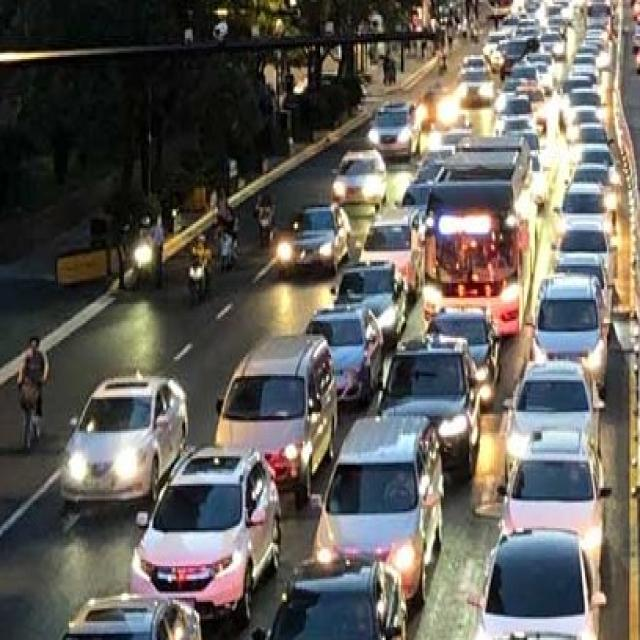bus: (421, 134, 537, 336)
car: (129, 442, 285, 622), (309, 413, 447, 608), (214, 332, 338, 509), (56, 372, 190, 505), (493, 430, 607, 584), (464, 532, 606, 640), (246, 553, 406, 640), (386, 337, 480, 481), (502, 359, 603, 471), (531, 270, 609, 398), (12, 591, 206, 640), (305, 304, 384, 406), (331, 260, 407, 346), (276, 202, 352, 276), (329, 149, 388, 212), (366, 101, 420, 162), (447, 627, 621, 640)
